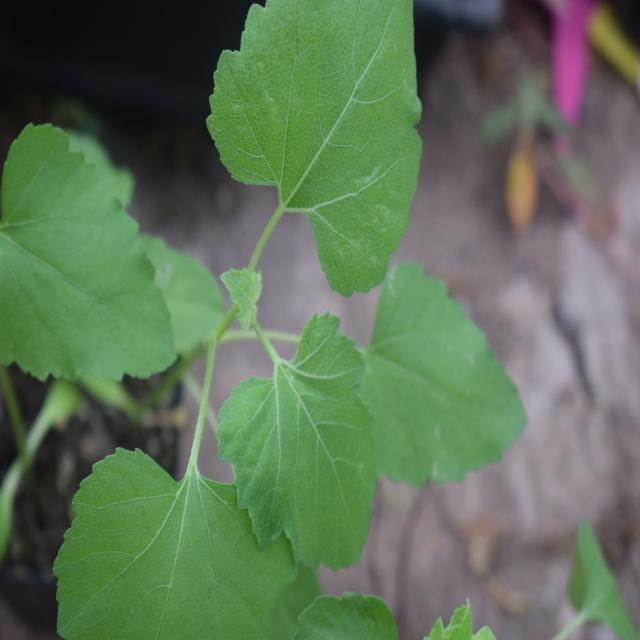cocklebur: (42, 25, 486, 616)
